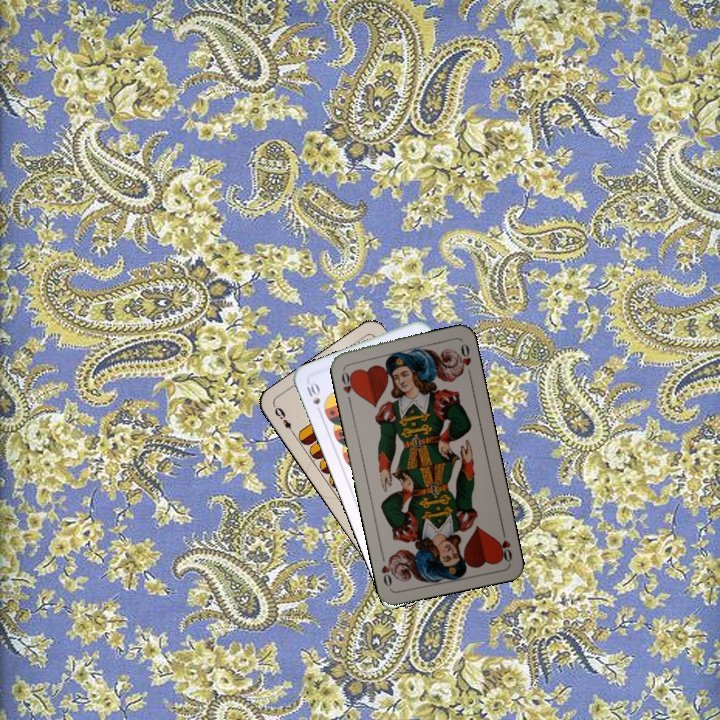E9: (270, 403, 297, 438)
HO: (337, 364, 359, 405), (493, 524, 515, 564)
S10: (301, 378, 324, 417)
